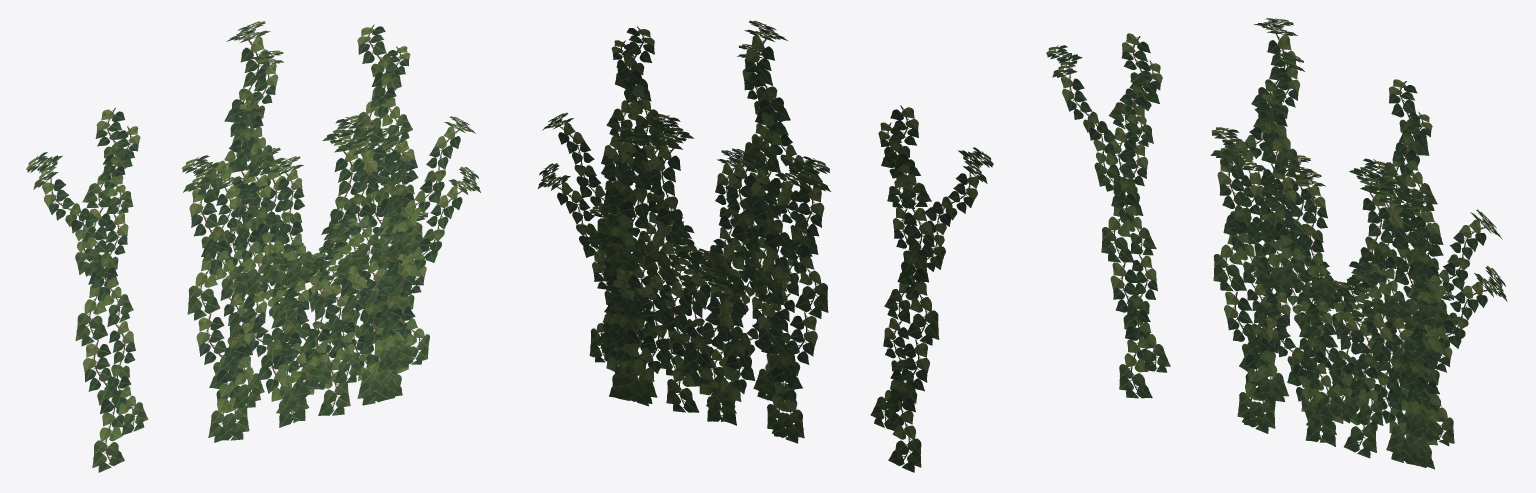
Rendered from SM_Vine_Ivy_Wall.fbx.
The picture shows the model from 3 angles, left to right: view 1: azimuth 30°, elevation 25°; view 2: azimuth 150°, elevation 25°; view 3: azimuth 330°, elevation 25°; orthographic projection.
Visible parts, largest first — view 1: SM_Vine_Ivy_Wall_LOD0; view 2: SM_Vine_Ivy_Wall_LOD0; view 3: SM_Vine_Ivy_Wall_LOD0.
Boxes of the visible parts, x1=… form: SM_Vine_Ivy_Wall_LOD0: x1=26, y1=21, x2=480, y2=472; SM_Vine_Ivy_Wall_LOD0: x1=538, y1=20, x2=993, y2=472; SM_Vine_Ivy_Wall_LOD0: x1=1046, y1=18, x2=1507, y2=469.
Size of what is drawn, in the model's own units: 3.2 by 2.67 by 0.0771.
